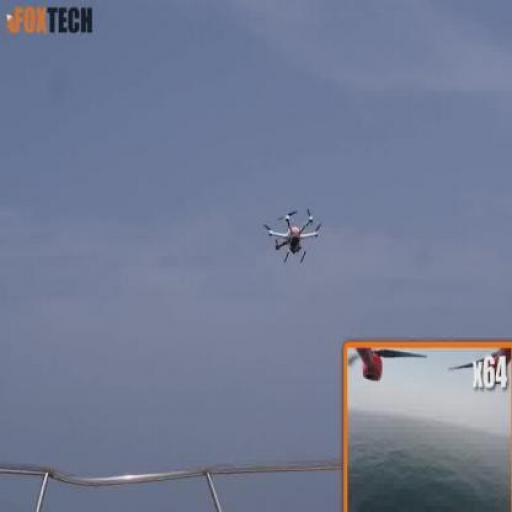drone: (261, 206, 324, 265)
